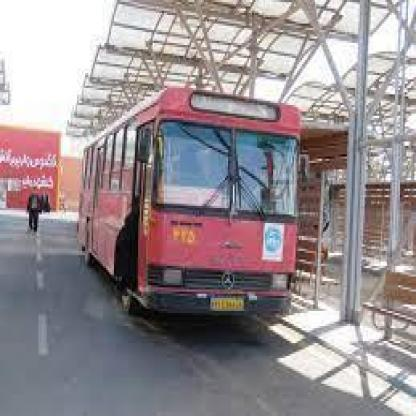Bus: (79, 92, 308, 339)
